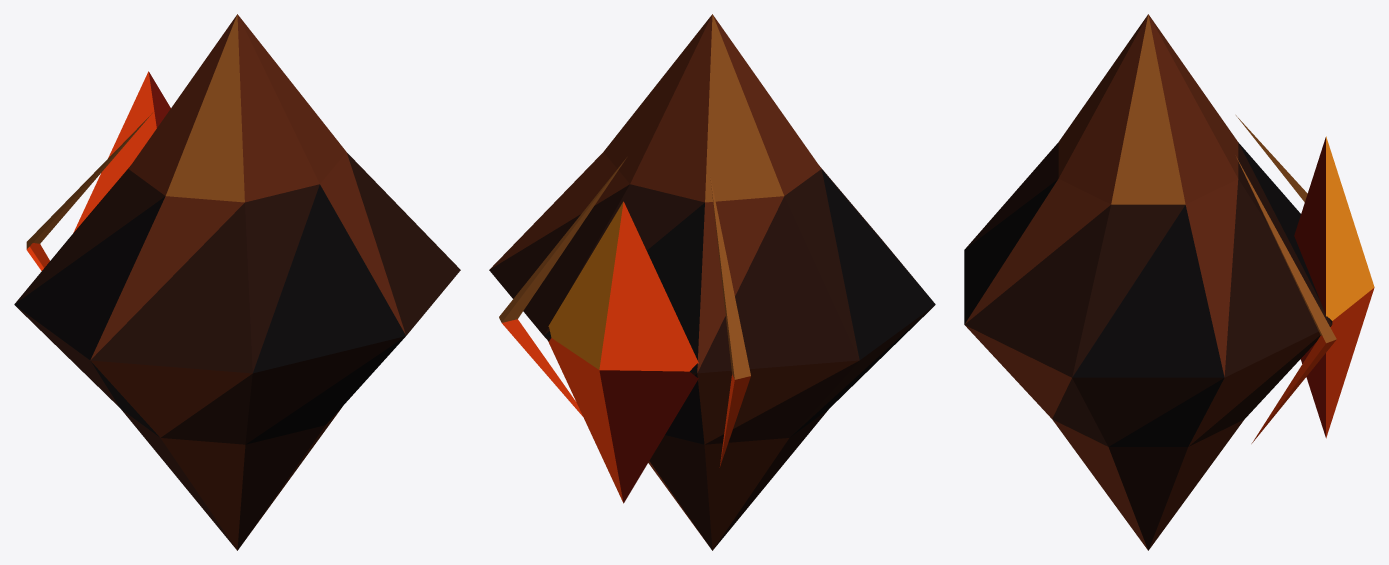
The model's file is boss_core.obj.
3 views of the same model, side by side, from view 1: azimuth 30°, elevation 25°; view 2: azimuth 150°, elevation 25°; view 3: azimuth 270°, elevation 25° (orthographic).
Visible parts, largest first — view 1: Boss_Reactor_Hull_M1, Boss_Reactor_Hull_M2, Boss_Reactor_Hull_M0, Boss_Reactor_Hull_M3, Boss_Exposed_Heart_M4, Reactor_Seam_1_M3; view 2: Boss_Reactor_Hull_M1, Boss_Reactor_Hull_M2, Boss_Reactor_Hull_M0, Boss_Exposed_Heart_M4, Boss_Reactor_Hull_M3, Boss_Exposed_Heart_M6, Boss_Exposed_Heart_M5, Reactor_Seam_1_M3, Reactor_Seam_-1_M3, Reactor_Seam_-1_M4, Reactor_Seam_1_M4; view 3: Boss_Reactor_Hull_M1, Boss_Reactor_Hull_M2, Boss_Reactor_Hull_M0, Boss_Reactor_Hull_M3, Boss_Exposed_Heart_M5, Boss_Exposed_Heart_M6, Boss_Exposed_Heart_M4, Reactor_Seam_-1_M3, Reactor_Seam_-1_M4, Reactor_Seam_1_M3.
Part boxes in pixels (box(x1,y1,x2,y2)): Boss_Reactor_Hull_M1: box(15, 153, 460, 550); Boss_Reactor_Hull_M2: box(82, 14, 405, 550); Boss_Reactor_Hull_M0: box(14, 184, 405, 444); Boss_Reactor_Hull_M3: box(166, 14, 244, 202); Boss_Exposed_Heart_M4: box(73, 71, 156, 232); Reactor_Seam_1_M3: box(26, 113, 152, 249); Boss_Reactor_Hull_M1: box(489, 167, 933, 550); Boss_Reactor_Hull_M2: box(490, 14, 907, 550); Boss_Reactor_Hull_M0: box(544, 169, 935, 444); Boss_Exposed_Heart_M4: box(548, 202, 698, 503); Boss_Reactor_Hull_M3: box(705, 14, 783, 202); Boss_Exposed_Heart_M6: box(599, 370, 698, 502); Boss_Exposed_Heart_M5: box(548, 201, 623, 369); Reactor_Seam_1_M3: box(710, 176, 750, 379); Reactor_Seam_-1_M3: box(499, 157, 626, 322); Reactor_Seam_-1_M4: box(502, 319, 582, 416); Reactor_Seam_1_M4: box(719, 374, 750, 467); Boss_Reactor_Hull_M1: box(964, 142, 1332, 550); Boss_Reactor_Hull_M2: box(965, 14, 1331, 550); Boss_Reactor_Hull_M0: box(964, 142, 1332, 446); Boss_Reactor_Hull_M3: box(1111, 15, 1185, 204); Boss_Exposed_Heart_M5: box(1326, 136, 1374, 320); Boss_Exposed_Heart_M6: box(1294, 137, 1325, 437); Boss_Exposed_Heart_M4: box(1326, 287, 1374, 438); Reactor_Seam_-1_M3: box(1236, 156, 1336, 343); Reactor_Seam_-1_M4: box(1251, 335, 1336, 443); Reactor_Seam_1_M3: box(1236, 115, 1307, 202).
Size of the model in its own units: 1.59 by 2.2 by 1.52.
